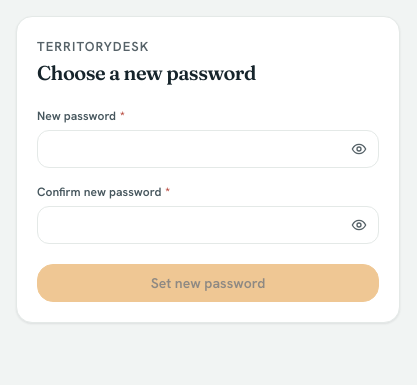
N3C-15/C-70: reset confirm-password validates on blur + submit › N3C-15/C-70: blurring the field reveals the mismatch
Type "correct-horse-battery" into the password field labelled "New password" at {"x": 208, "y": 149}, box [37,130,379,168]
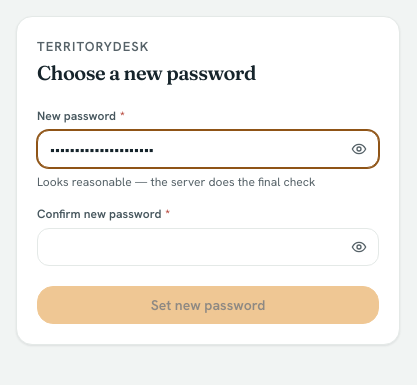
Type "correct-horse" into the password field labelled "Confirm new password" at {"x": 208, "y": 247}, box [37,228,379,266]
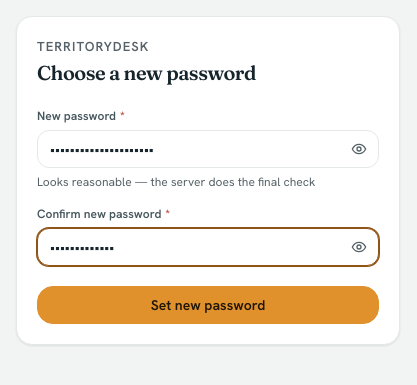
Leave the password field labelled "Confirm new password", box [37,228,379,266]
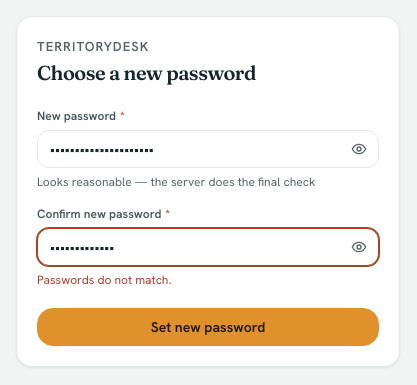
Expected: the text "Passwords do not match." is shown, [37,272,171,288]
